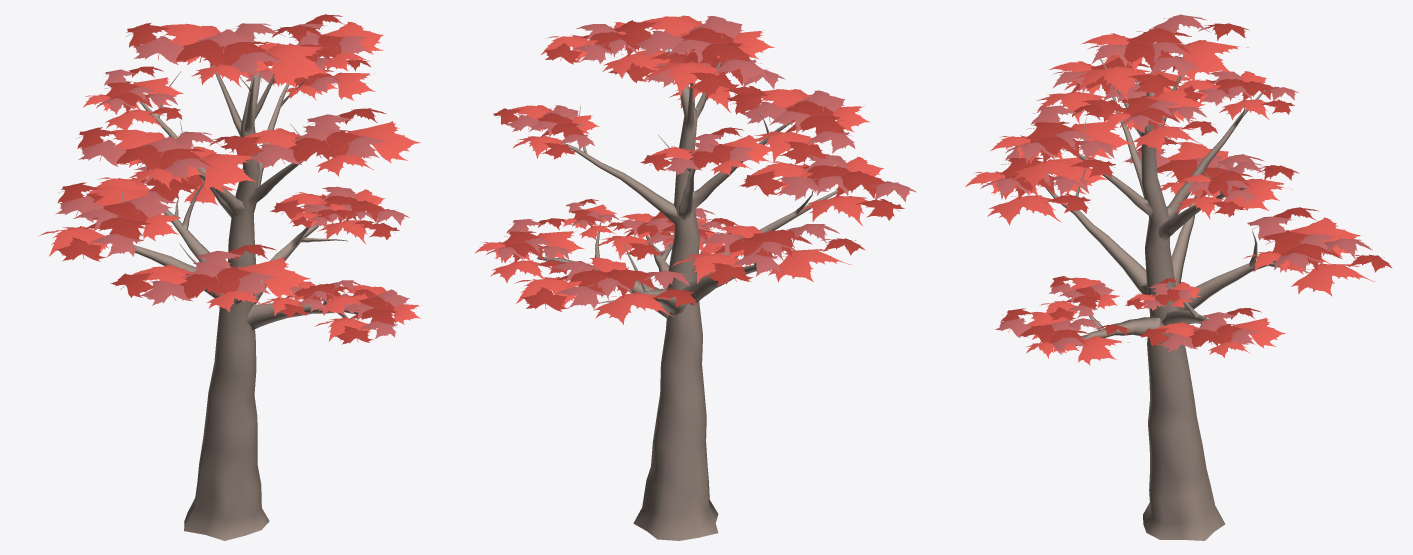
Rendered from orange_tree.fbx.
The picture shows the model from 3 angles, left to right: view 1: azimuth 30°, elevation 25°; view 2: azimuth 150°, elevation 25°; view 3: azimuth 270°, elevation 25°; orthographic projection. The views are drawn at different scales.
Parts seen in each view (by area): view 1: orange_tree; view 2: orange_tree; view 3: orange_tree.
Part boxes in pixels (<box>): orange_tree: <box>39,14,422,540</box>; orange_tree: <box>474,15,916,540</box>; orange_tree: <box>965,14,1392,540</box>.
Size of the model in its own units: 8.88 by 11 by 9.3.
